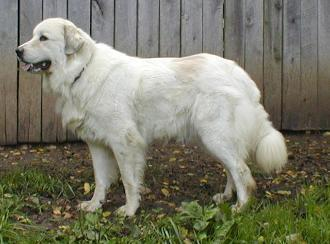Great_Pyrenees: (12, 12, 293, 218)
